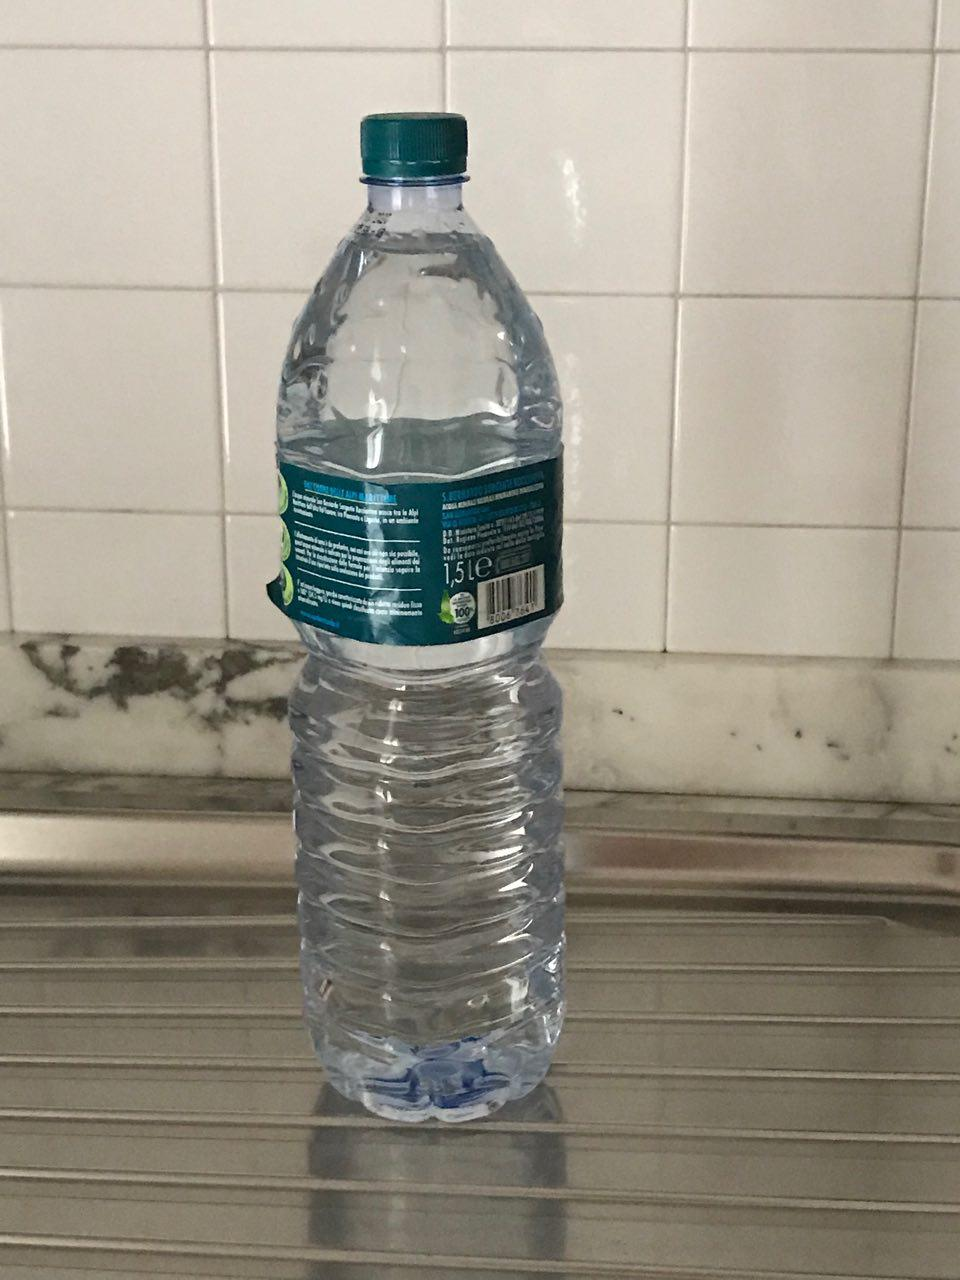san_bernardo: (274, 111, 567, 1121)
